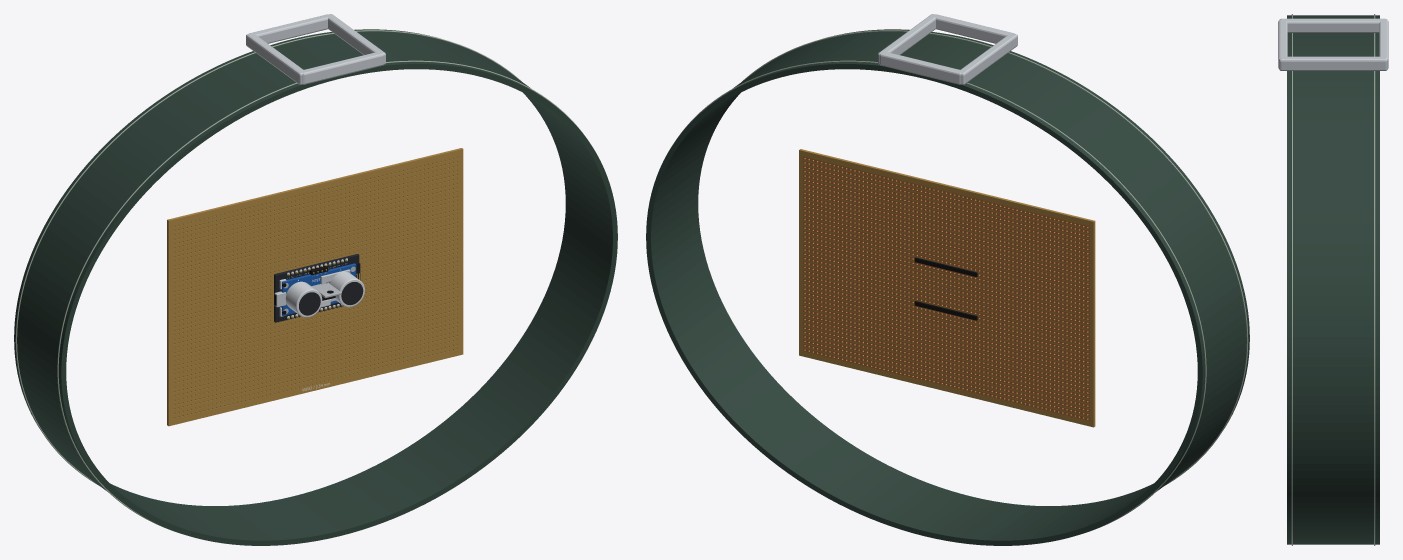
File: customizer.glb
3 views of the same model, side by side, from view 1: azimuth 30°, elevation 25°; view 2: azimuth 150°, elevation 25°; view 3: azimuth 270°, elevation 25° (orthographic).
Parts seen in each view (by area): view 1: Webbing, Phenolic substrate, Board end border.001, Board end border, Edge stitching.001, Edge stitching, Buckle rails.001, Board side border, Template transducers, Buckle rails, Board side border.001, Buckle sides (+3 smaller); view 2: Webbing, Continuous copper strips, Phenolic substrate, Board end border.001, Board end border, Edge stitching, Edge stitching.001, Buckle rails, Board side border, Buckle rails.001, Buckle sides, Buckle sides.001 (+2 smaller); view 3: Webbing, Buckle sides.001, Buckle sides, Edge stitching, Edge stitching.001, Buckle rails, Buckle rails.001.
Boxes of the visible parts, box(x1,y1,x2,y2) form: Webbing: box(14, 29, 617, 545); Phenolic substrate: box(172, 155, 459, 420); Board end border.001: box(171, 149, 459, 224); Board end border: box(172, 350, 459, 425); Edge stitching.001: box(57, 60, 585, 533); Edge stitching: box(15, 30, 521, 485); Buckle rails.001: box(301, 51, 383, 84); Board side border: box(167, 219, 172, 426); Template transducers: box(285, 271, 364, 317); Buckle rails: box(249, 14, 330, 43); Board side border.001: box(458, 148, 463, 355); Buckle sides: box(246, 33, 303, 84); Webbing: box(646, 29, 1249, 545); Continuous copper strips: box(803, 156, 1089, 420); Phenolic substrate: box(803, 156, 1089, 421); Board end border.001: box(803, 150, 1090, 225); Board end border: box(803, 351, 1089, 426); Edge stitching: box(678, 60, 1206, 533); Edge stitching.001: box(742, 30, 1248, 485); Buckle rails: box(880, 51, 962, 84); Board side border: box(1090, 220, 1095, 427); Buckle rails.001: box(933, 14, 1014, 43); Buckle sides: box(960, 33, 1017, 84); Buckle sides.001: box(878, 14, 937, 64); Webbing: box(1287, 15, 1379, 544); Buckle sides.001: box(1279, 56, 1387, 70); Buckle sides: box(1279, 18, 1387, 32); Edge stitching: box(1374, 14, 1375, 545); Edge stitching.001: box(1291, 14, 1292, 545); Buckle rails: box(1379, 20, 1388, 69); Buckle rails.001: box(1278, 20, 1287, 69).
Bounding box in the file's own units: 341 × 278 × 59.
